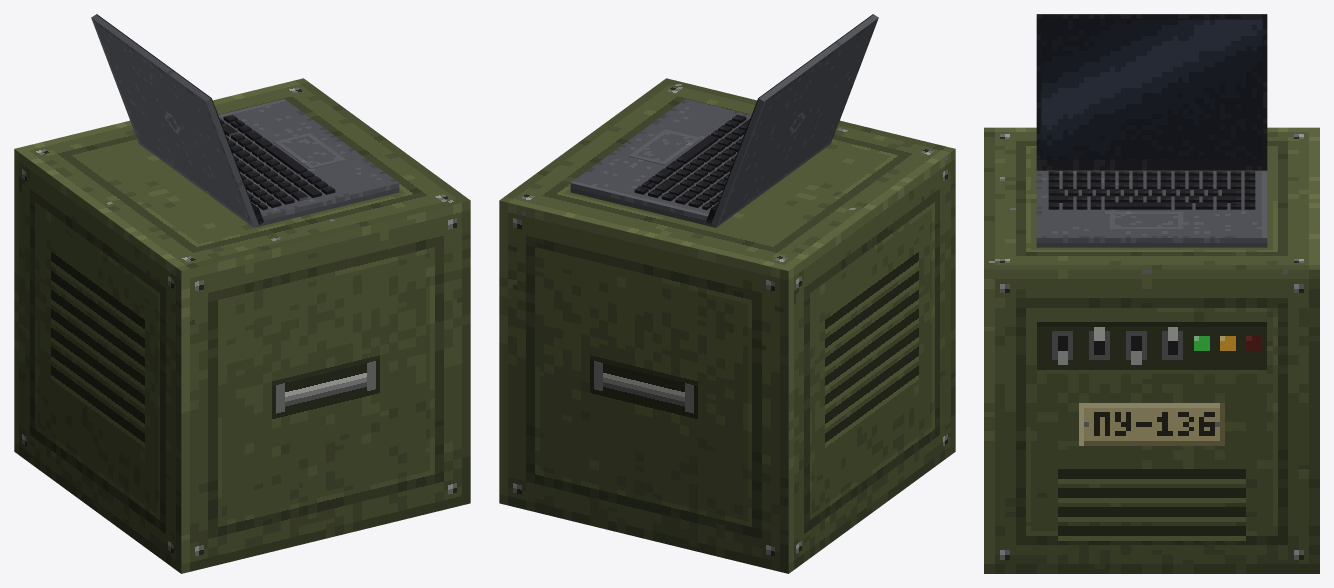
File: shahed_terminal.glb
3 renders of one model, left to right at view 1: azimuth 30°, elevation 25°; view 2: azimuth 150°, elevation 25°; view 3: azimuth 270°, elevation 25°, orthographic.
Visible parts, largest first — view 1: airframe; view 2: airframe; view 3: airframe.
Boxes of the visible parts, left/top/right/bottom form: airframe: left=14, top=14, right=470, bottom=573; airframe: left=499, top=14, right=955, bottom=573; airframe: left=984, top=14, right=1319, bottom=573.
Size of the model in its own units: 1 by 1.46 by 1.
1 material, 1 textured.
